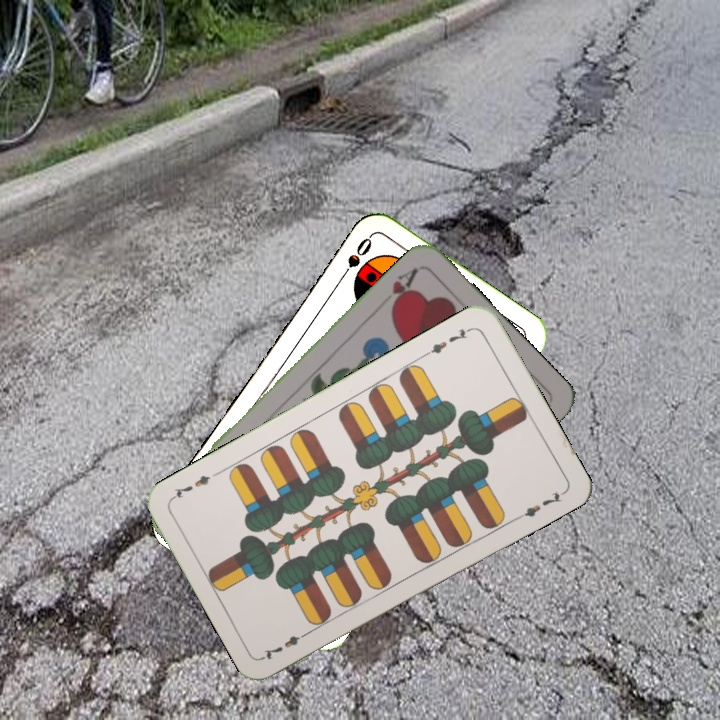E7: (259, 626, 314, 662), (421, 323, 475, 359)
HA: (385, 263, 421, 314)
SO: (335, 232, 375, 284)
